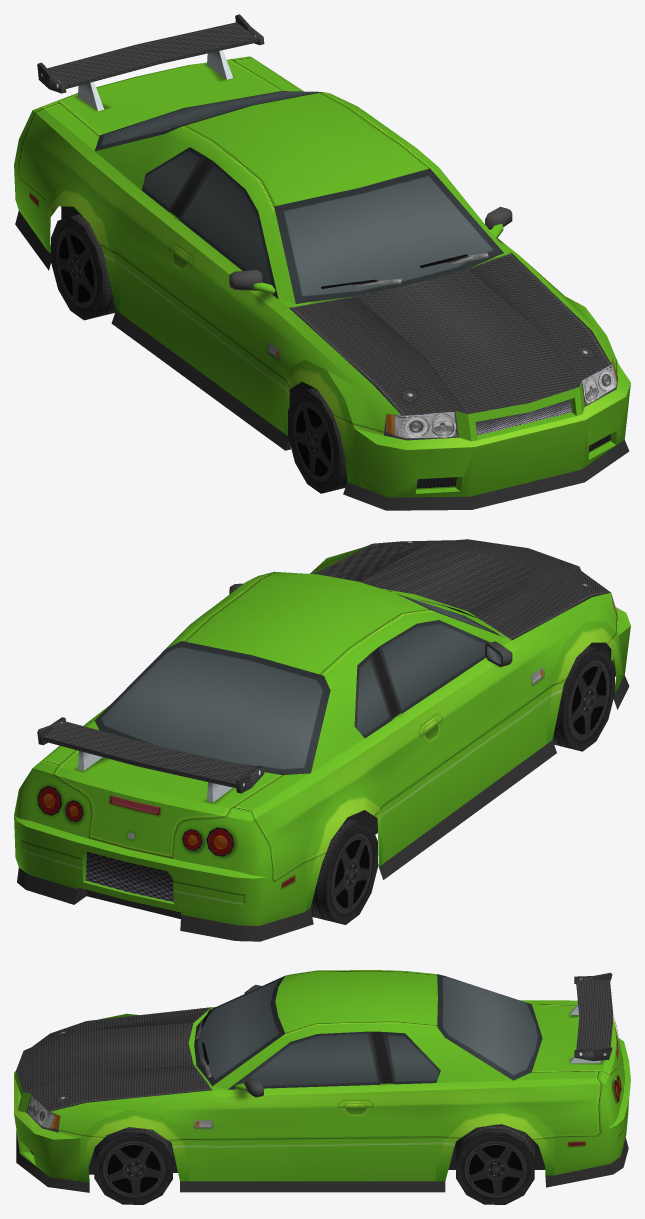
Rendered from StreetHighEndVehicle_LOD1.fbx.
3 renders of one model, top to bottom at view 1: azimuth 30°, elevation 25°; view 2: azimuth 150°, elevation 25°; view 3: azimuth 270°, elevation 25°, orthographic. The views are drawn at different scales.
Parts seen in each view (by area): view 1: Chassis, RR_WHeel, RF_Wheel; view 2: Chassis, RR_WHeel, RF_Wheel; view 3: Chassis, LR_Wheel, LF_Wheel.
Part boxes in pixels (x1,y1,x2,y2): Chassis: [14, 14, 630, 510]; RR_WHeel: [51, 214, 115, 320]; RF_Wheel: [288, 388, 347, 493]; Chassis: [14, 539, 630, 941]; RR_WHeel: [310, 818, 378, 924]; RF_Wheel: [552, 646, 614, 751]; Chassis: [14, 970, 630, 1192]; LR_Wheel: [456, 1124, 534, 1204]; LF_Wheel: [94, 1127, 173, 1204].
Size of the model in its own units: 2.1 by 1.49 by 5.24.
Materials: 2 (2 with a texture image).
